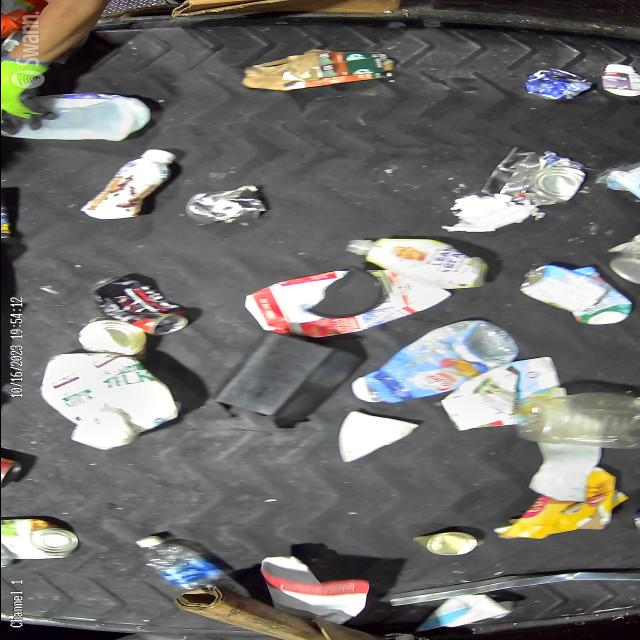can: (89, 274, 189, 332), (507, 264, 616, 314), (482, 152, 580, 204), (0, 515, 84, 563), (178, 188, 265, 226), (68, 321, 160, 356), (519, 67, 591, 106), (410, 526, 486, 562)
milk_jug: (31, 348, 188, 451), (1, 90, 152, 143)
plastic_bottle: (137, 530, 253, 608)
